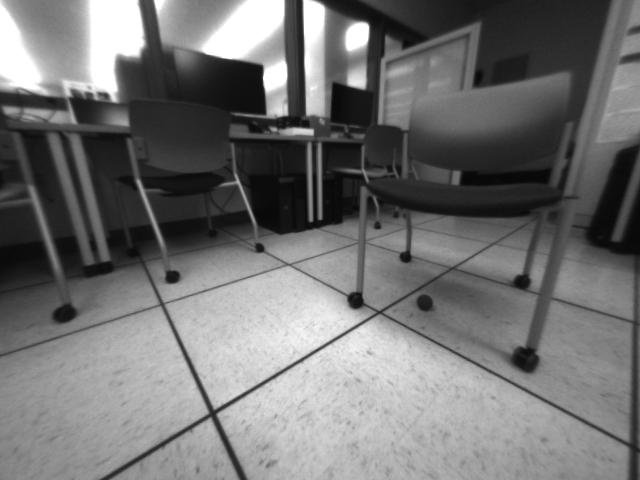dogtoy: (413, 291, 439, 313)
